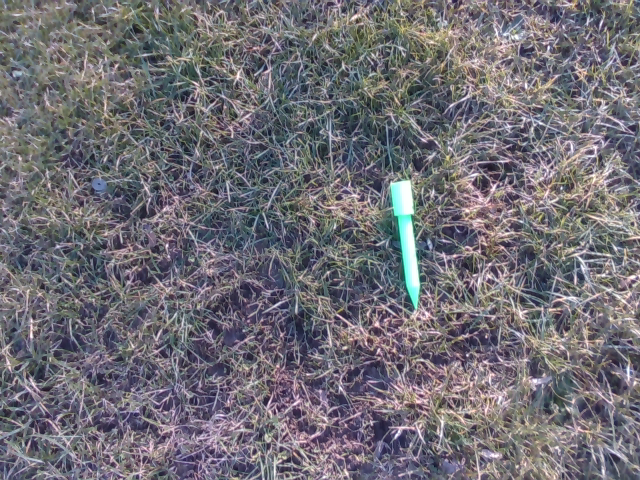Probe: (384, 175, 425, 312)
